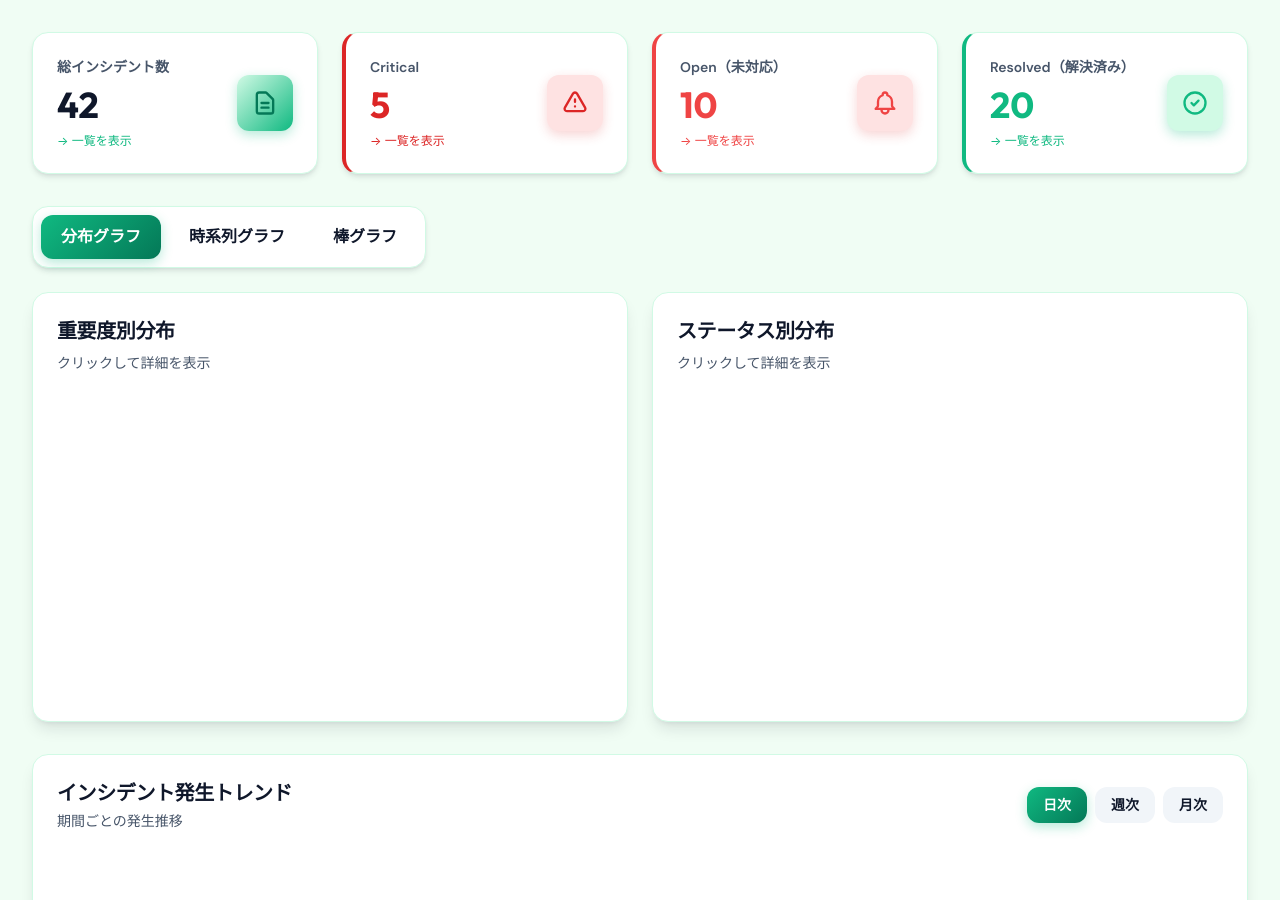
it: DashboardPage › charts and visualizations › allows switching graph types
Expected: the button "分布グラフ" is shown, x1=41 y1=215 x2=161 y2=259
Note: 時系列グラフに切り替え
Click the button "時系列グラフ".
click(237, 237)  # box x1=169 y1=215 x2=305 y2=259
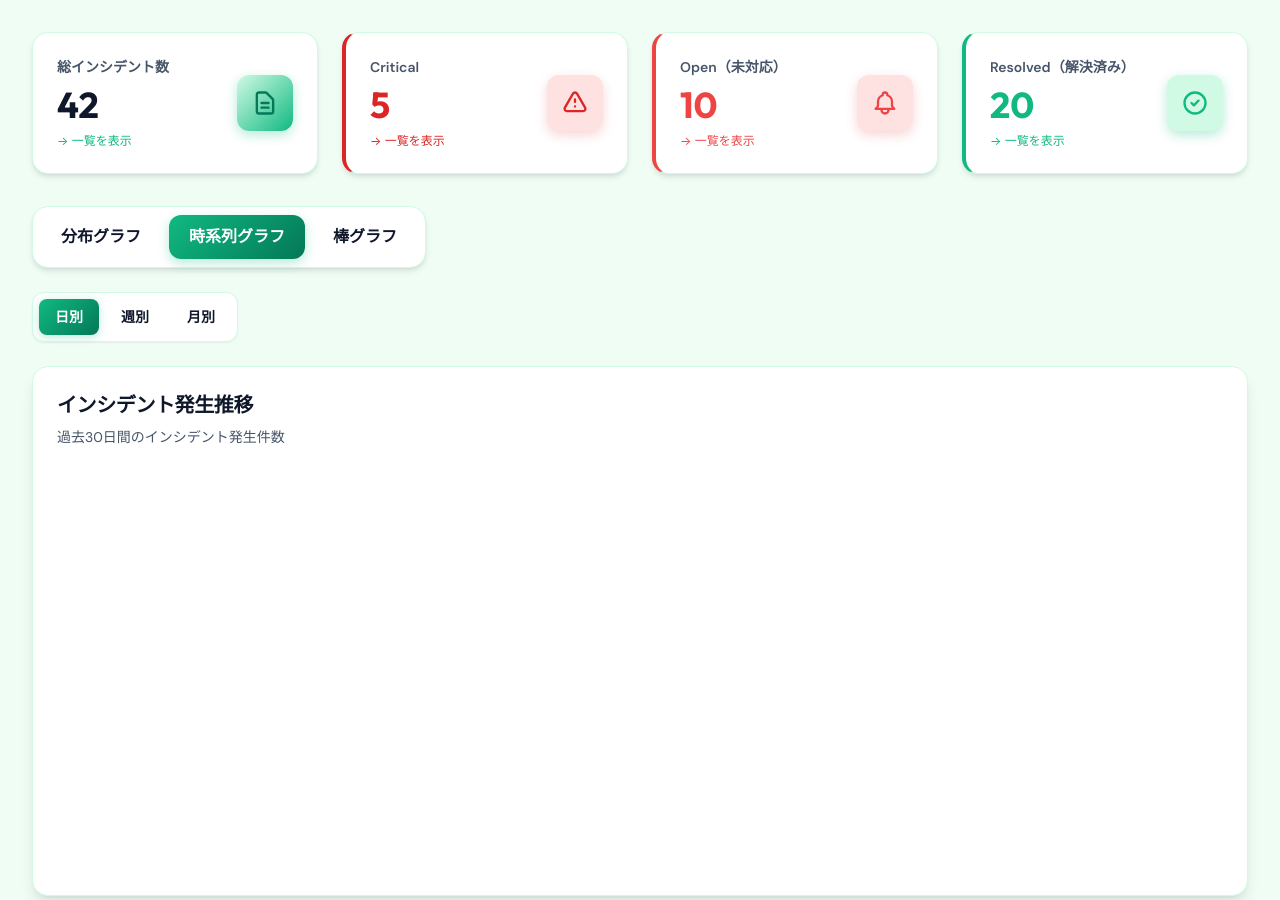
Expected: the heading "インシデント発生推移" is shown, x1=57 y1=392 x2=253 y2=417
Note: 棒グラフに切り替え
Click the button "棒グラフ".
click(365, 237)  # box x1=313 y1=215 x2=417 y2=259
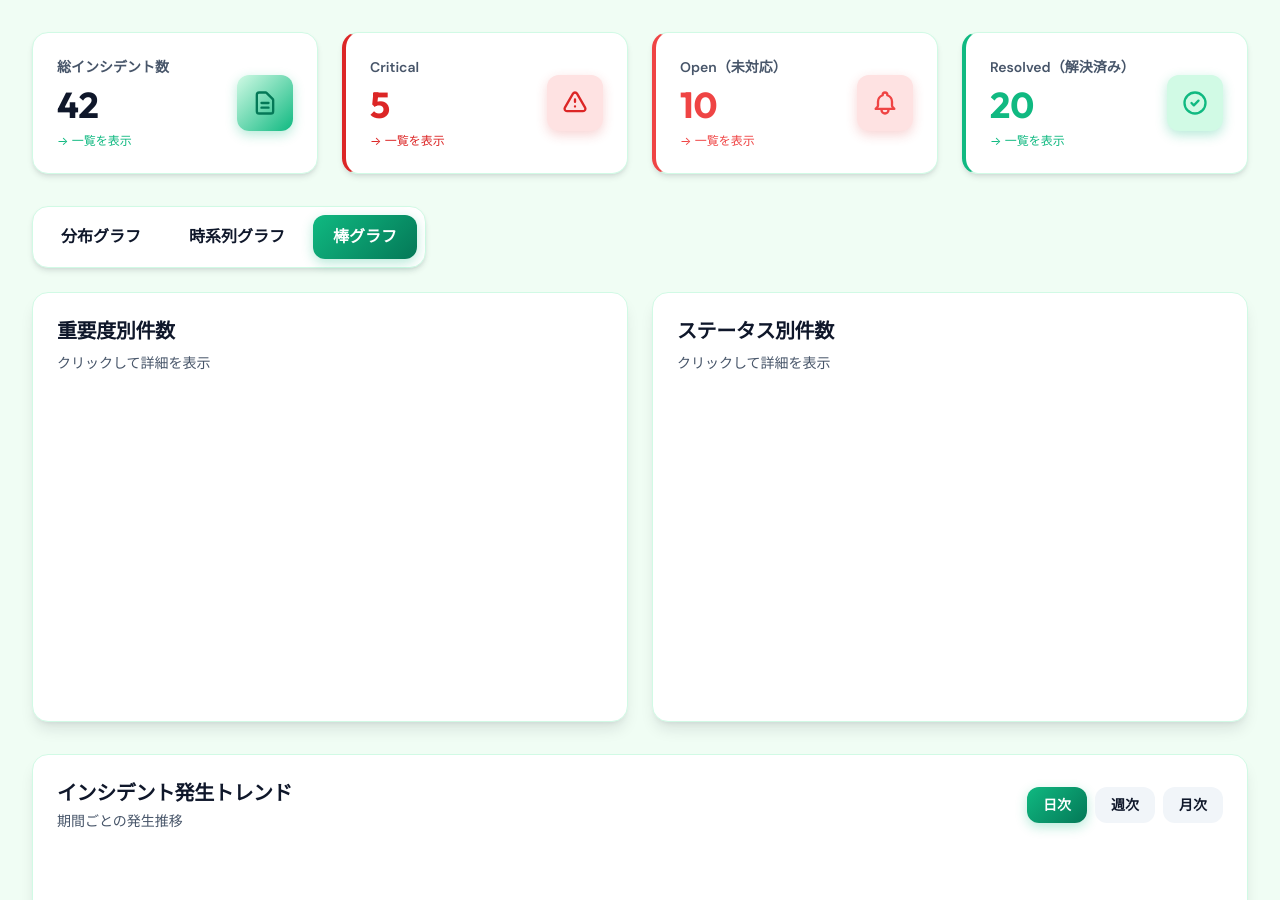
Expected: the heading "重要度別件数" is shown, x1=57 y1=318 x2=175 y2=343
